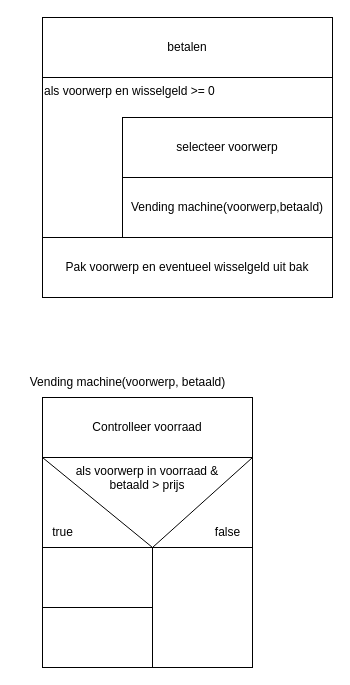
This 350x685 diagram has some shape labels left out. Each missing label, with the centre of its shape:
"return false" belongs at point (202, 607).
"return voorwerp en wisselgeld" belongs at point (97, 637).
"wisselgeld = betaald - prijs" belongs at point (97, 577).
